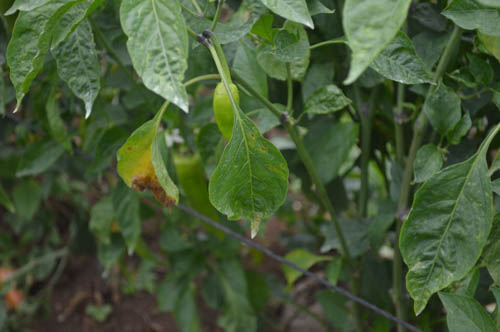ChiliPepper: (174, 152, 227, 238), (215, 82, 244, 140)
